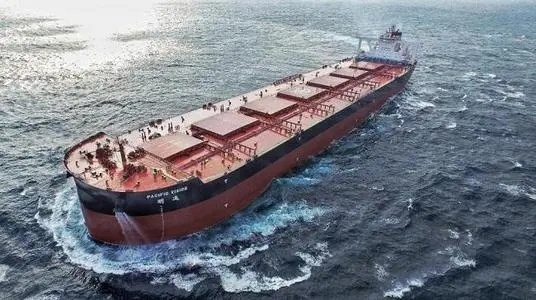Cargoship: (66, 22, 419, 245)
